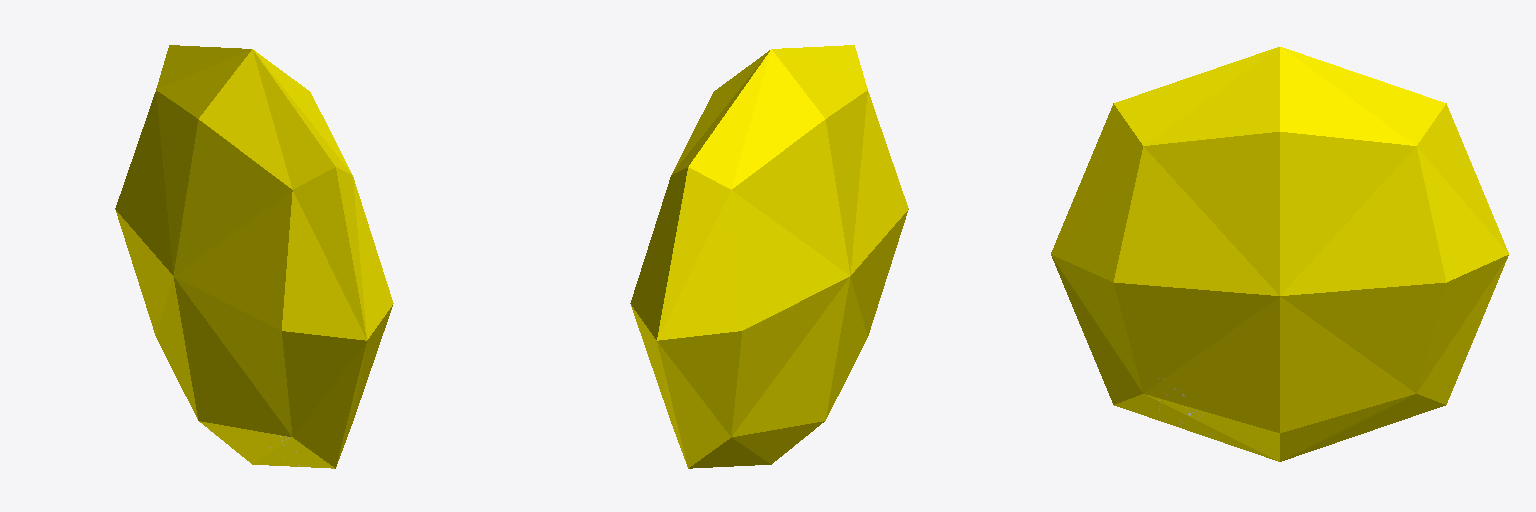
The picture shows the model from 3 angles: view 1: azimuth 30°, elevation 25°; view 2: azimuth 150°, elevation 25°; view 3: azimuth 270°, elevation 25°; orthographic projection.
Parts seen in each view (by area): view 1: 立方体; view 2: 立方体; view 3: 立方体.
Boxes of the visible parts, box(x1,y1,x2,y2) form: 立方体: box(115, 45, 393, 468); 立方体: box(630, 45, 908, 468); 立方体: box(1051, 47, 1508, 461).
Size of the model in its own units: 0.6976 by 1.68 by 1.68.
1 materials, 1 textured.